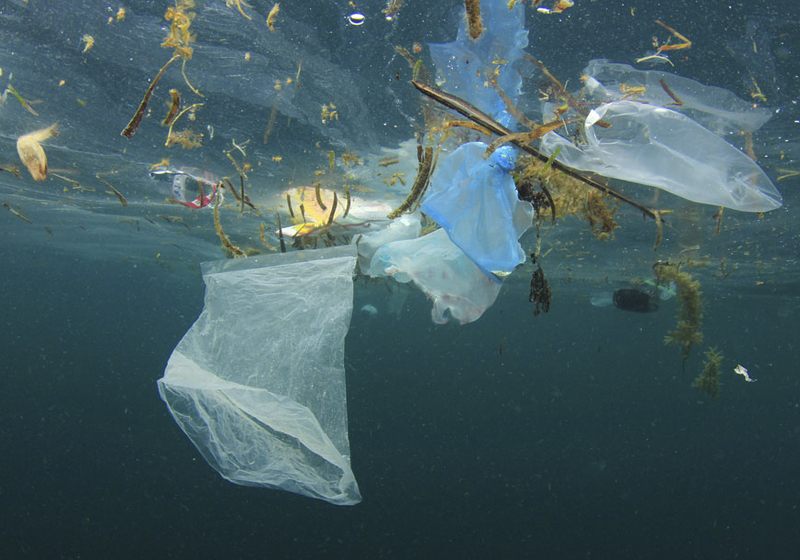plastic_bagwdw: (109, 194, 397, 524), (511, 15, 785, 300), (328, 175, 562, 389), (405, 70, 549, 300)
